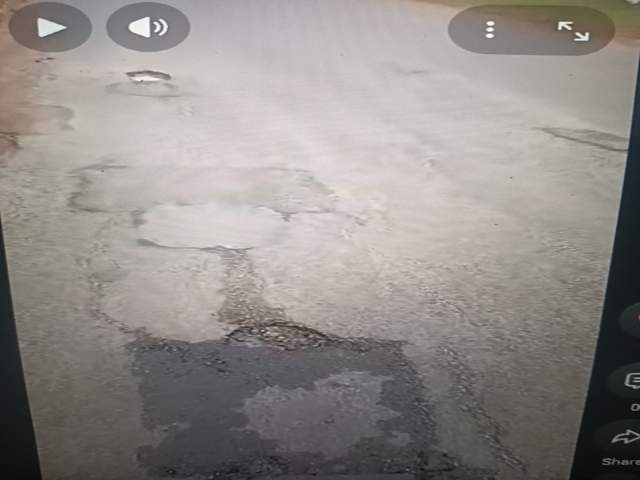pothole: (125, 403, 331, 480), (536, 403, 640, 480)
